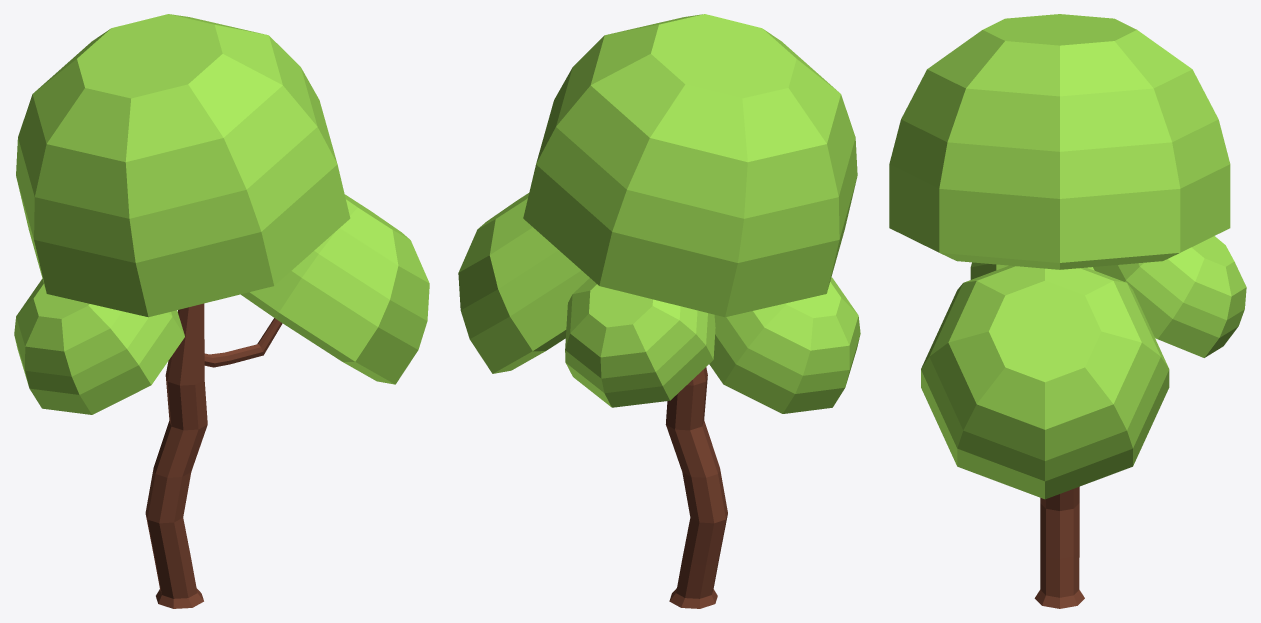
File: Tree002_V1.fbx
The picture shows the model from 3 angles, left to right: view 1: azimuth 30°, elevation 25°; view 2: azimuth 150°, elevation 25°; view 3: azimuth 270°, elevation 25°; orthographic projection.
Visible parts, largest first — view 1: Tree002; view 2: Tree002; view 3: Tree002.
Part boxes in pixels (x1,y1,x2,y2): Tree002: (14, 14, 429, 608); Tree002: (458, 14, 860, 608); Tree002: (889, 14, 1246, 608).
Size of the model in its own units: 4.06 by 5.73 by 3.26.
